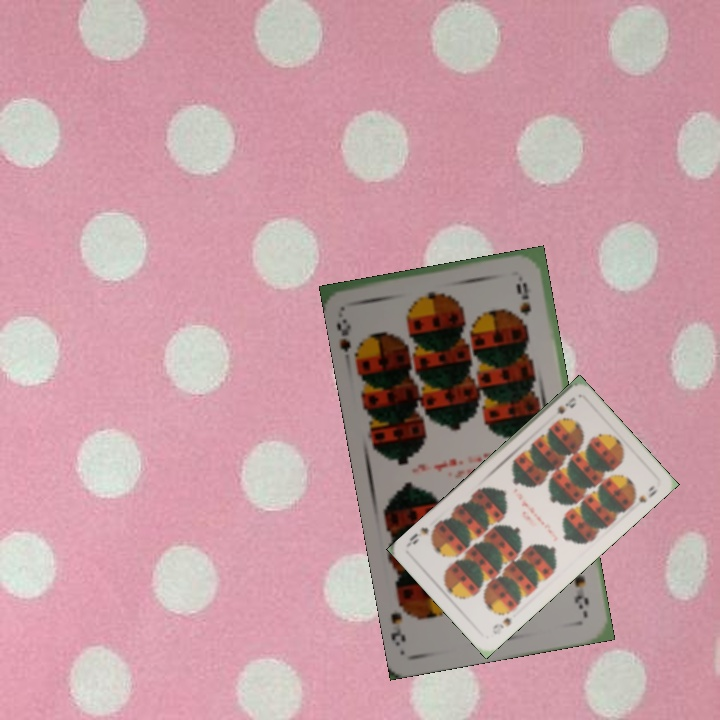S9: (332, 315, 365, 365), (570, 568, 592, 618), (552, 393, 579, 417), (488, 613, 514, 637)
